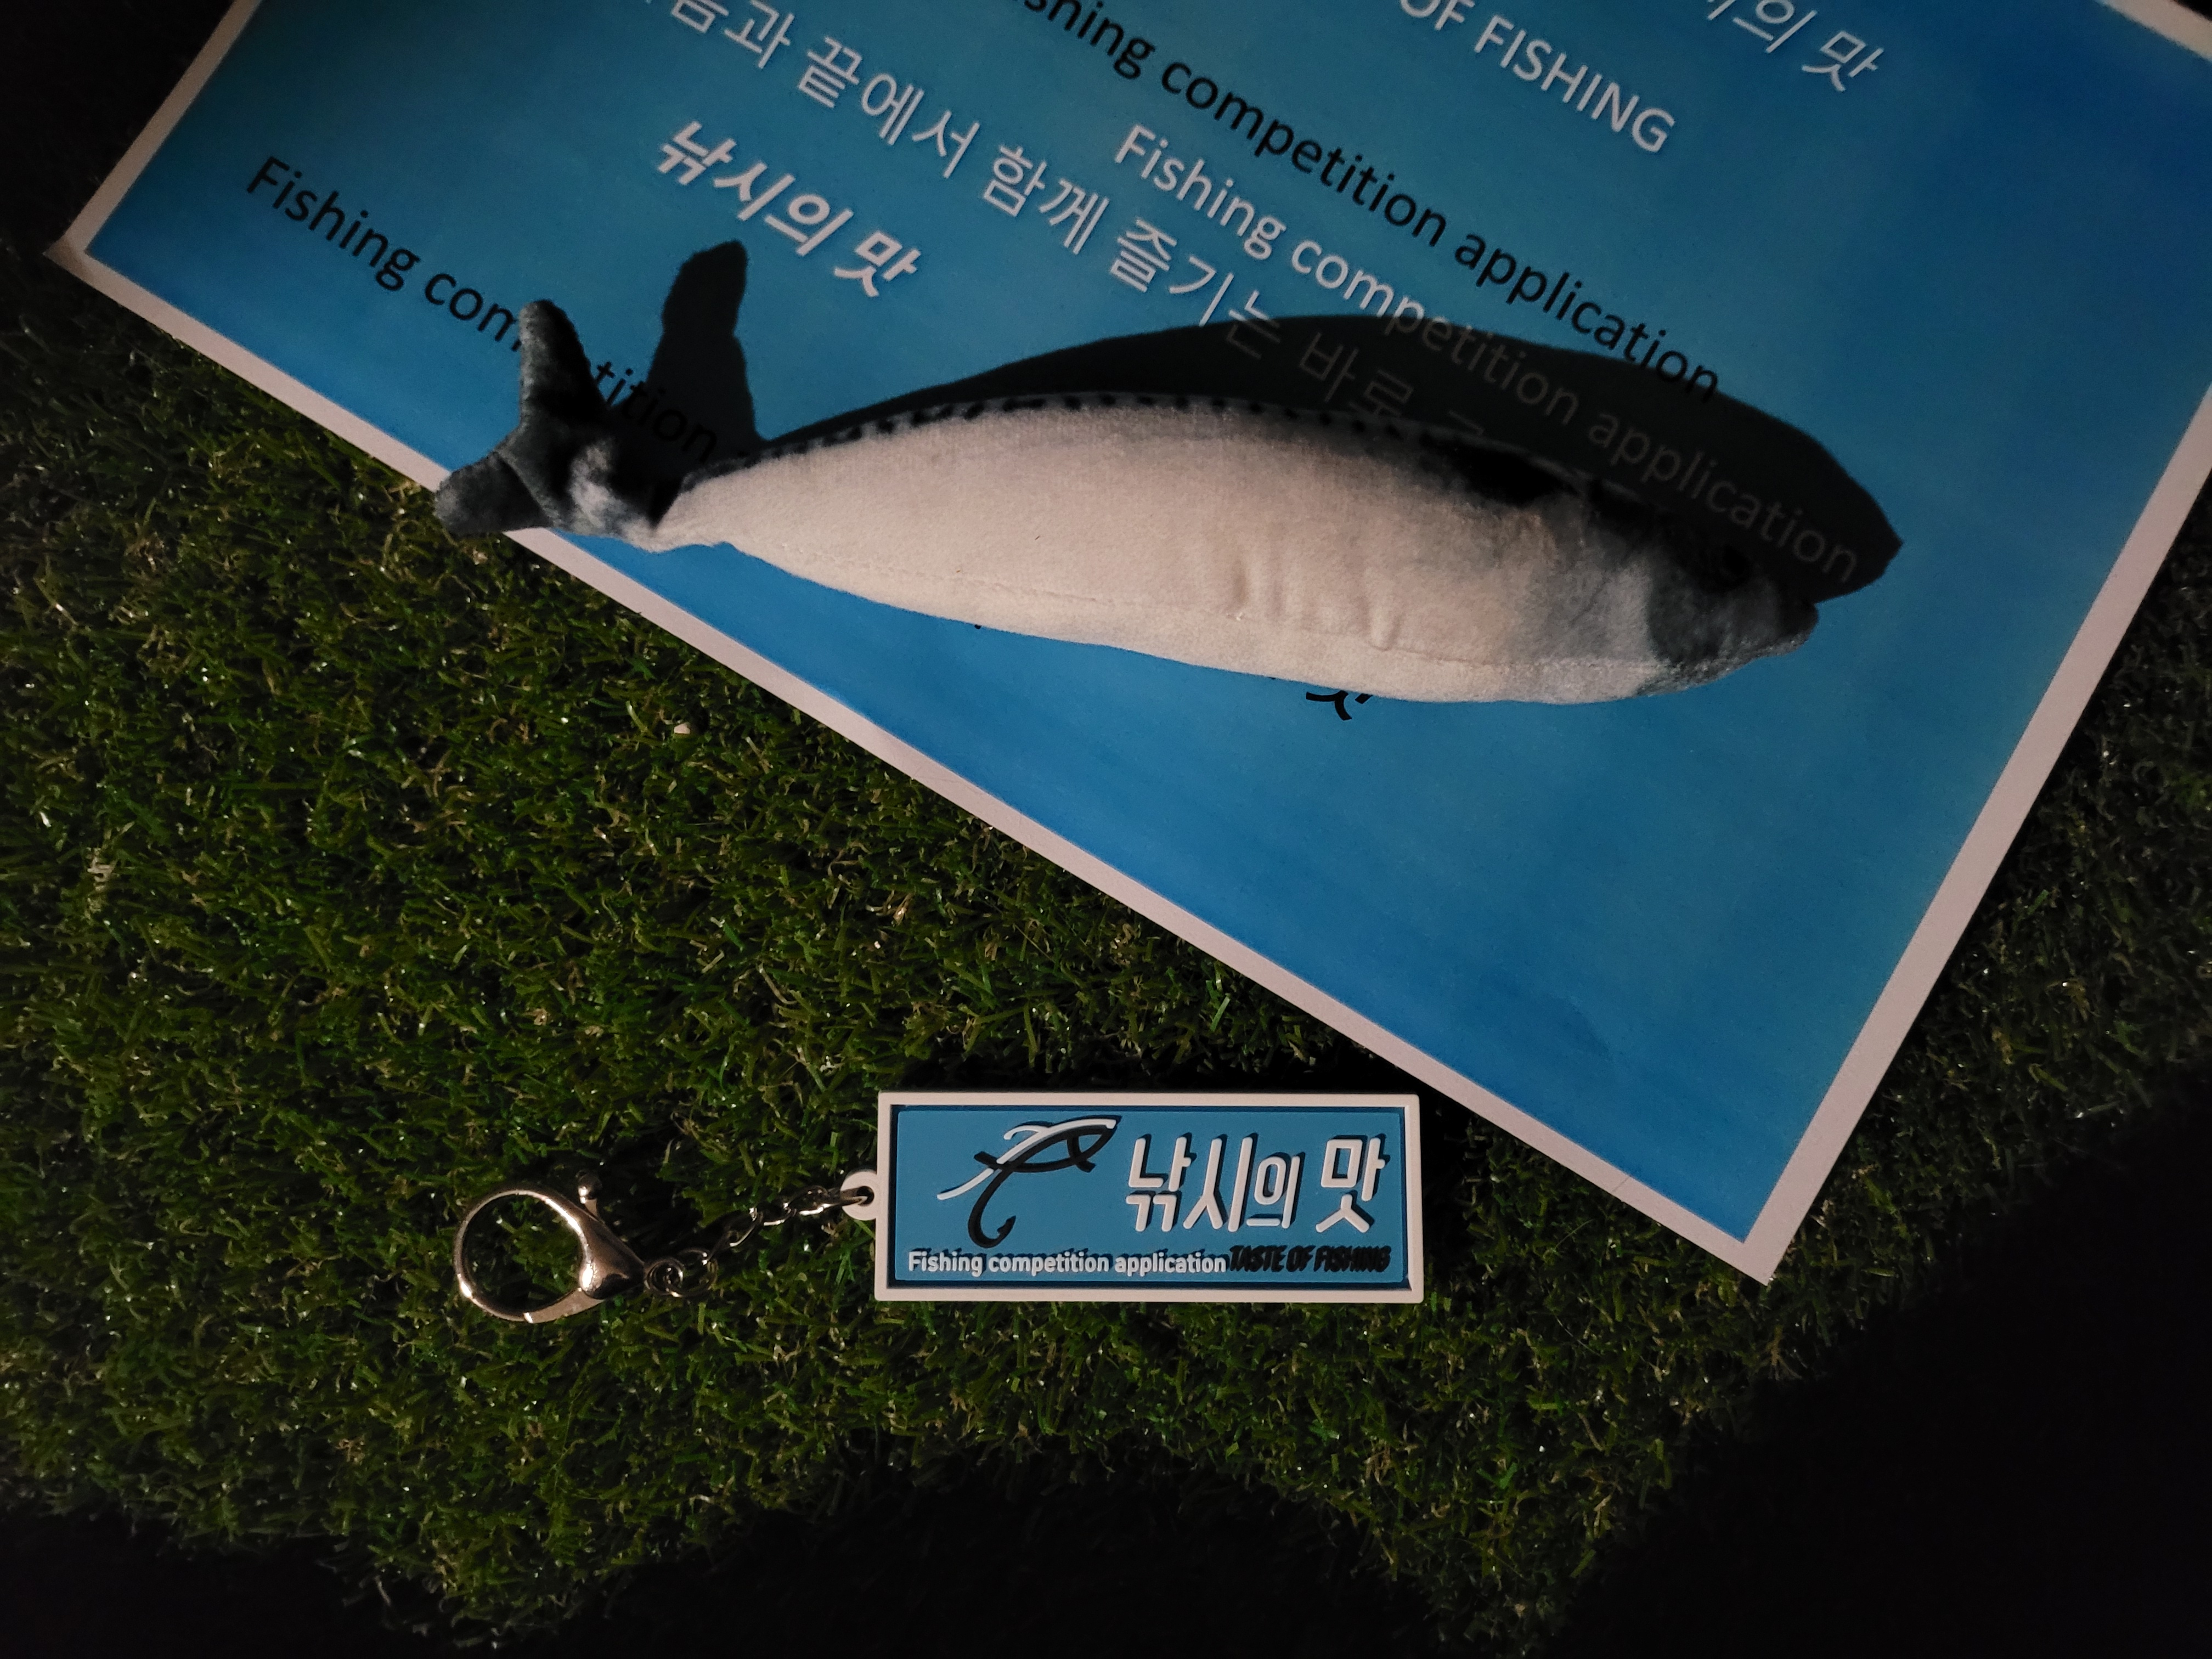fish: (435, 296, 1822, 697)
tag: (873, 1093, 1430, 1309)
